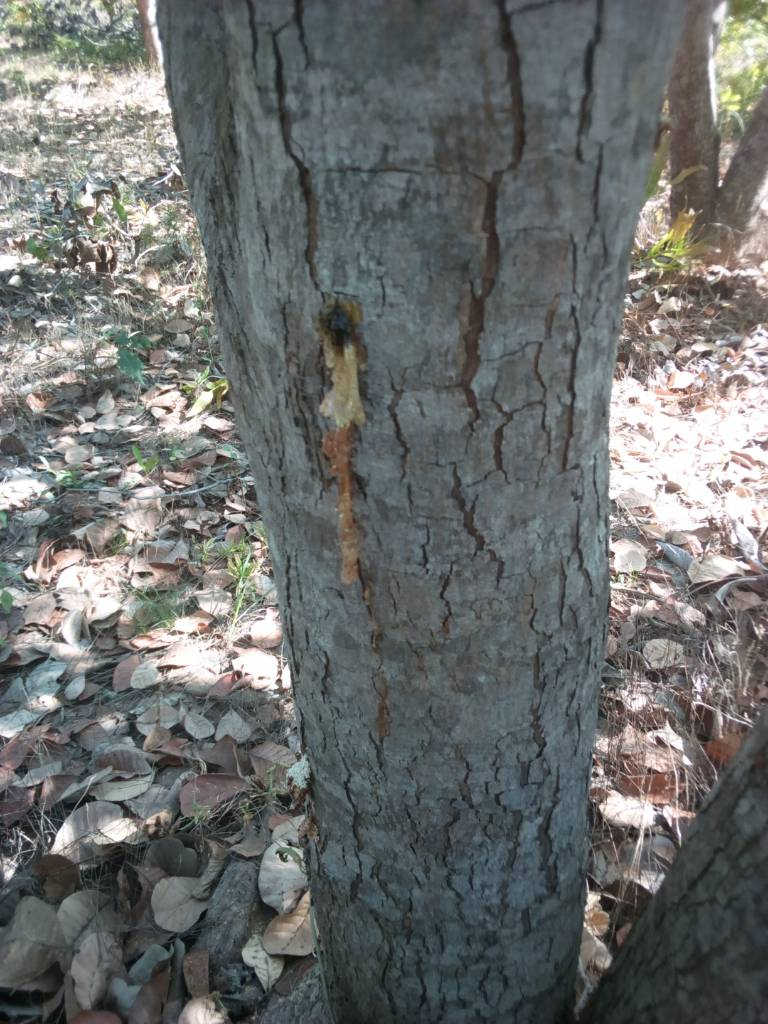Apate terebrans: (205, 277, 472, 655)
